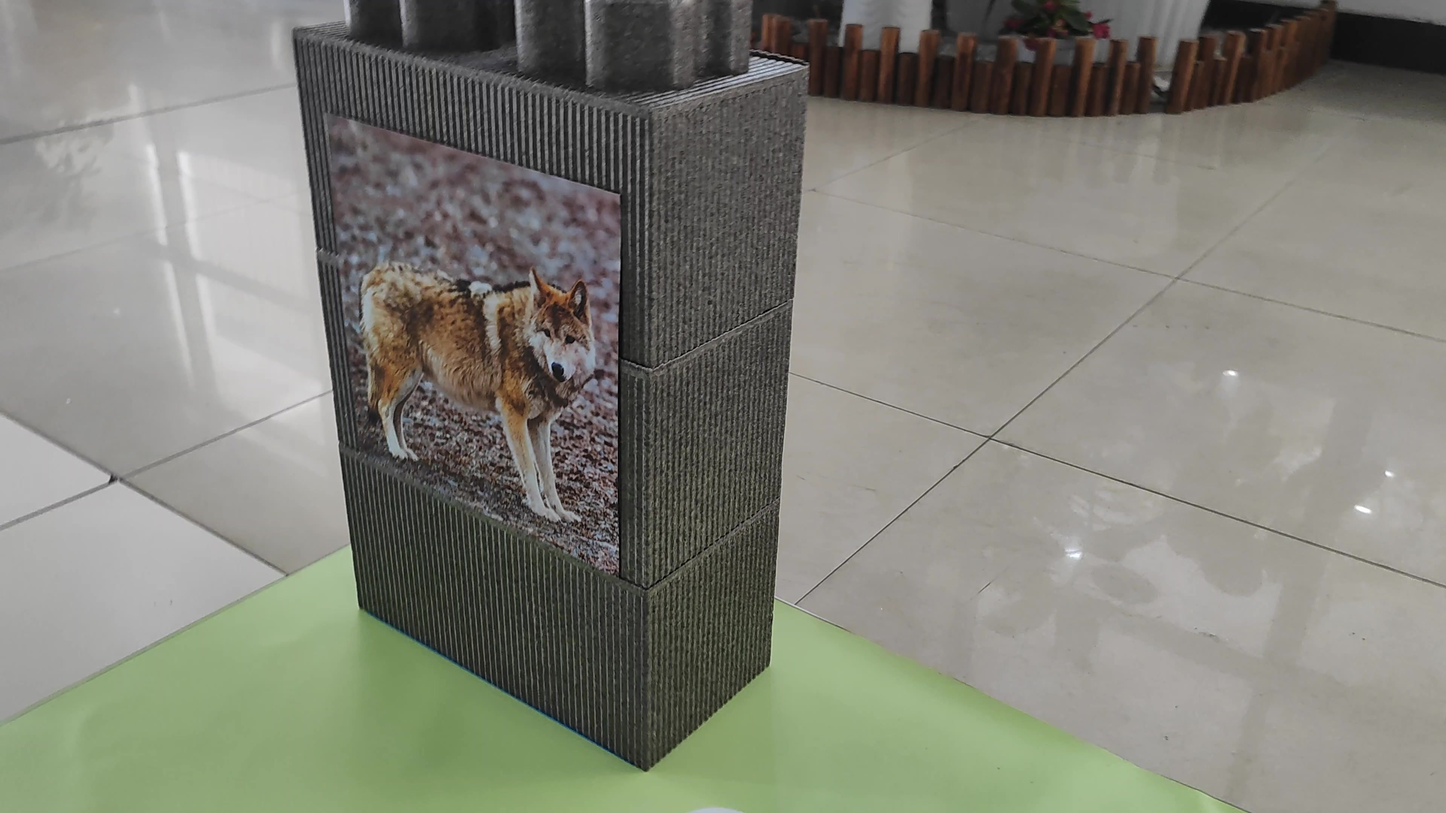wolf: (347, 201, 612, 517)
